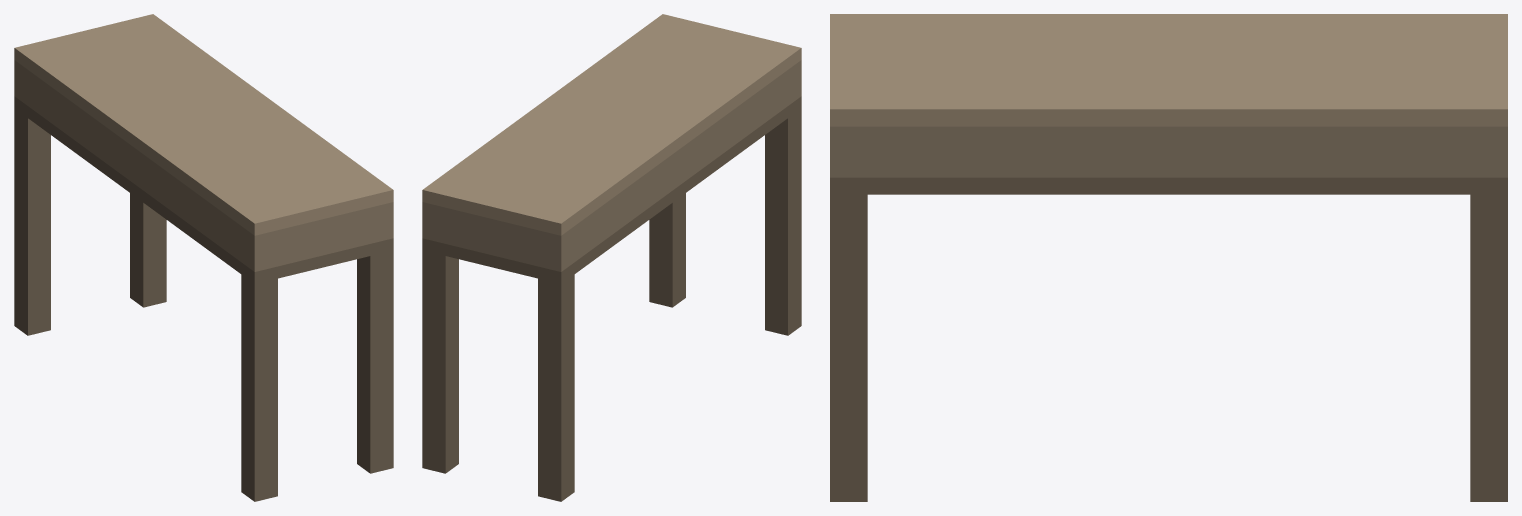
The model's file is mostrador_01.glb.
3 views of the same model, side by side, from view 1: azimuth 30°, elevation 25°; view 2: azimuth 150°, elevation 25°; view 3: azimuth 270°, elevation 25° (orthographic). The views are drawn at different scales.
Visible parts, largest first — view 1: mostrador; view 2: mostrador; view 3: mostrador.
Part boxes in pixels (bbox=[...]): mostrador: bbox=[14, 14, 393, 501]; mostrador: bbox=[422, 14, 801, 501]; mostrador: bbox=[830, 14, 1507, 501].
Bounding box in the file's own units: 1 × 1.92 × 3.
